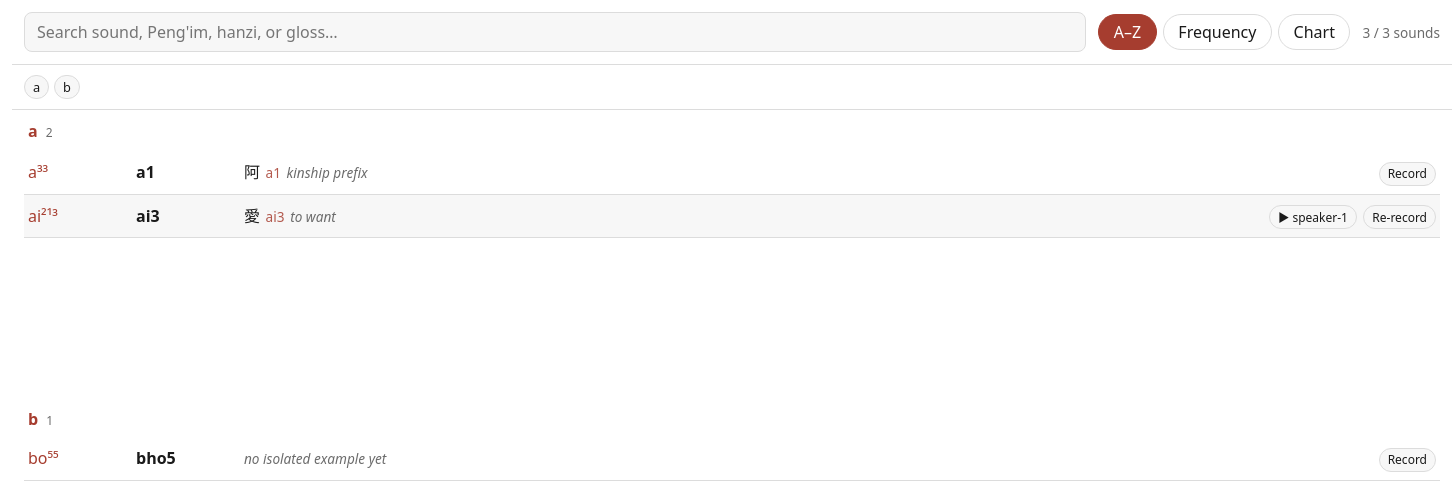
Test: SoundsView chart view (issue #171) › shows a working PlayClipButton in the panel for a tone with a clip, and RecordClipButton for one without (dev mode)
Click the button "Chart" at (1314, 32), box [1278, 14, 1350, 50]
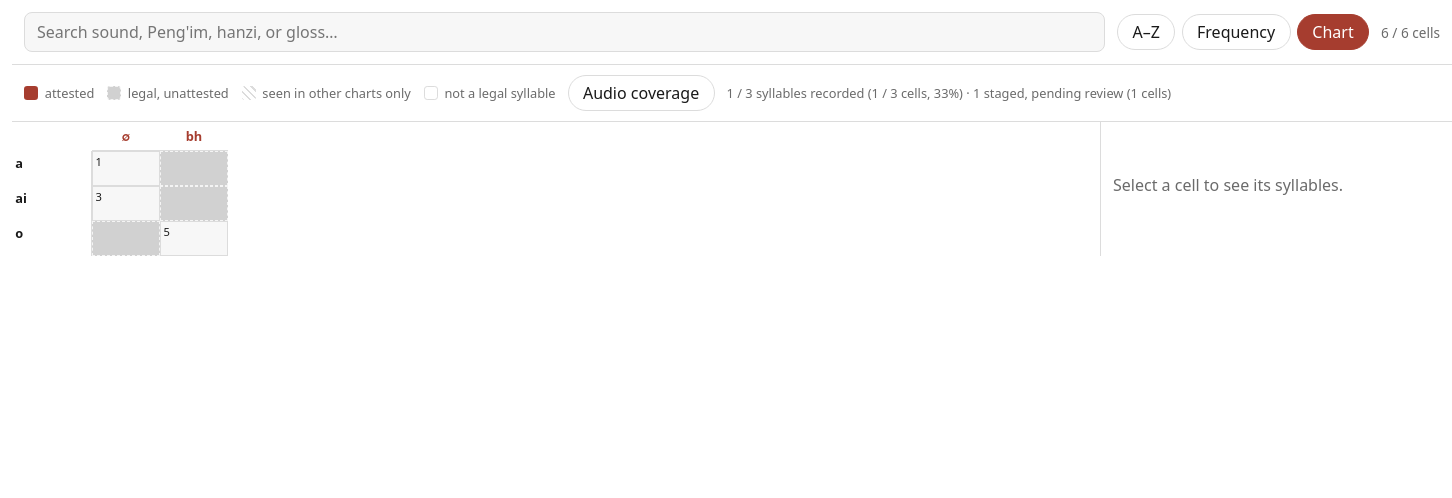
# ai3 (no initial, rime ai) has a clip.
Click the cell named "no initial, rime ai: attested" at (126, 203), box [92, 186, 160, 221]
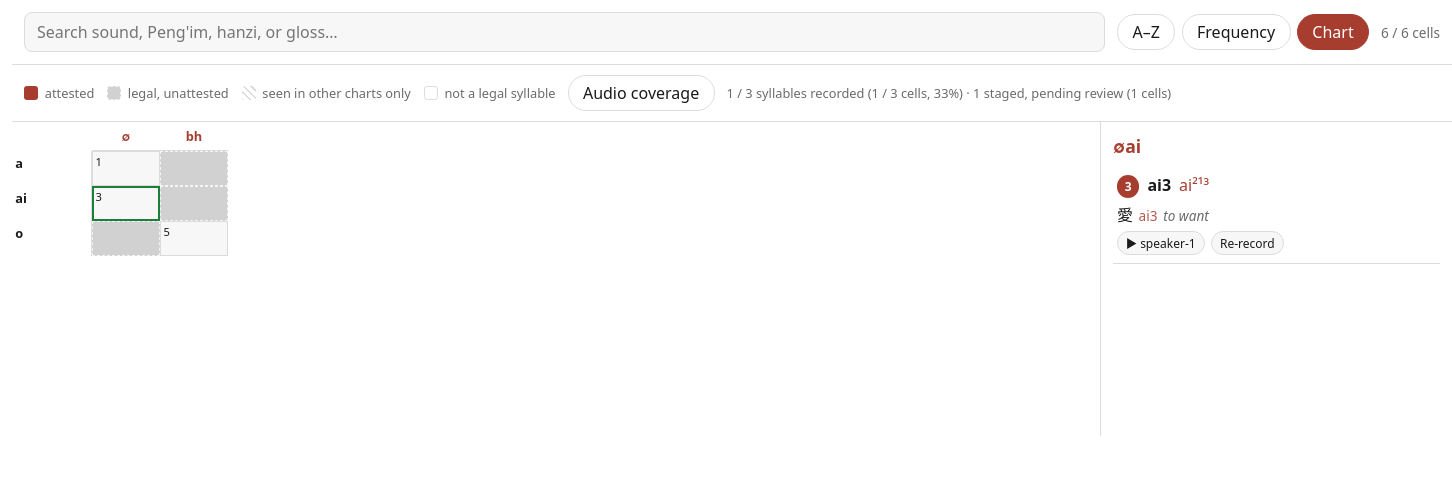
Click the button with aria-label "Play recording by speaker-1" at (1161, 243), box [1117, 231, 1205, 255]
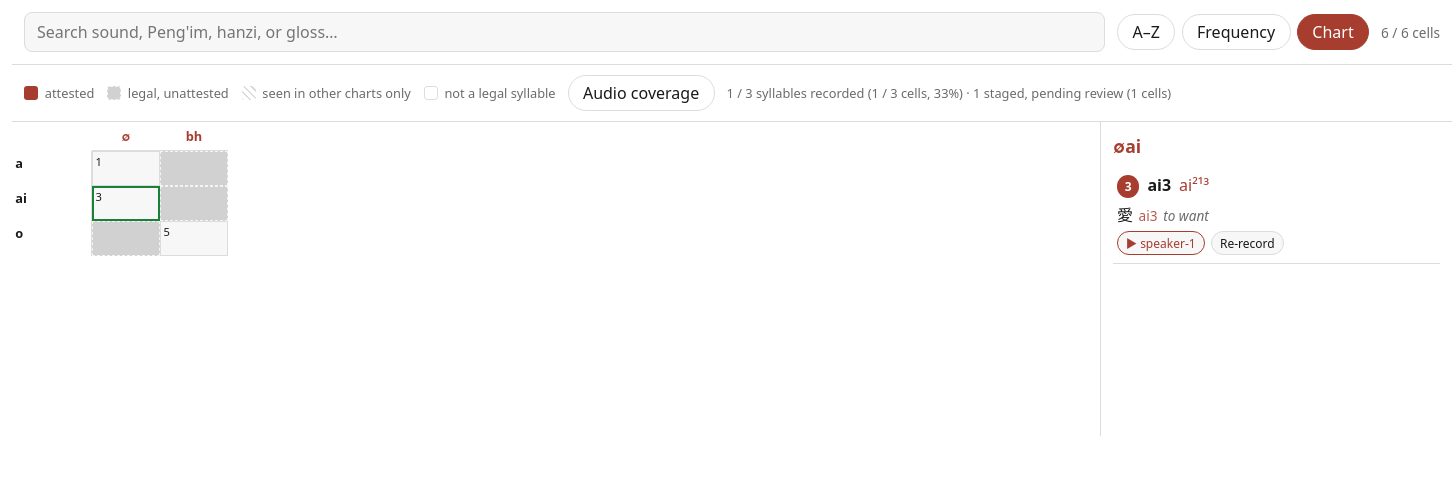
# bho5 (bh initial, rime o) has no clip.
Click the cell named "bh initial, rime o: attested" at (194, 238), box [160, 221, 228, 256]
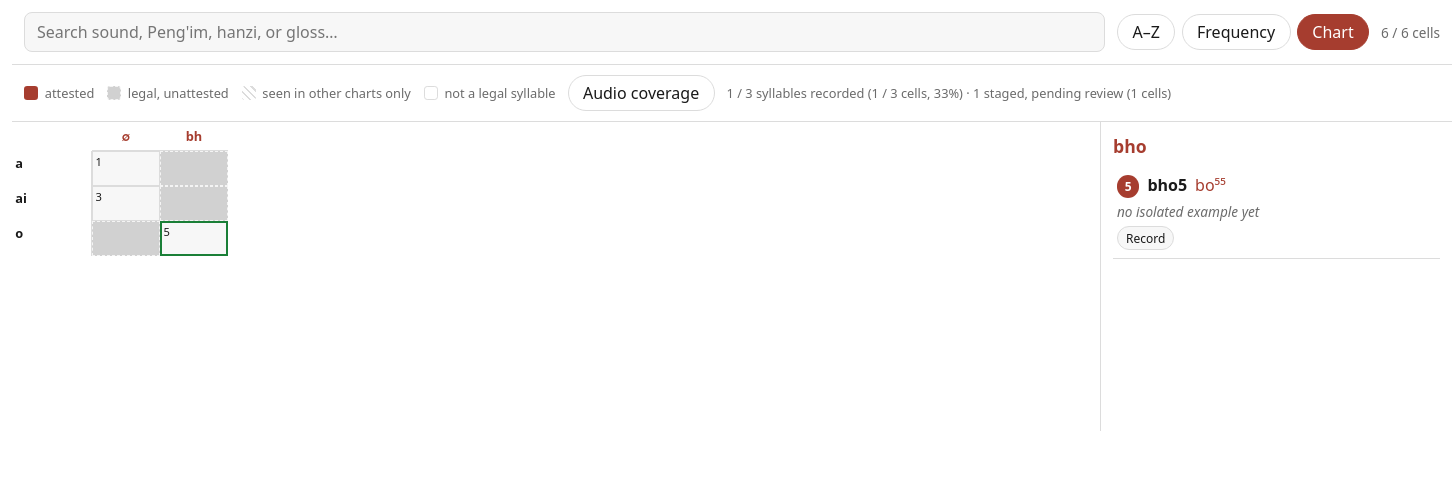
Result: the button "Record" is shown at [1117, 226, 1174, 250]
